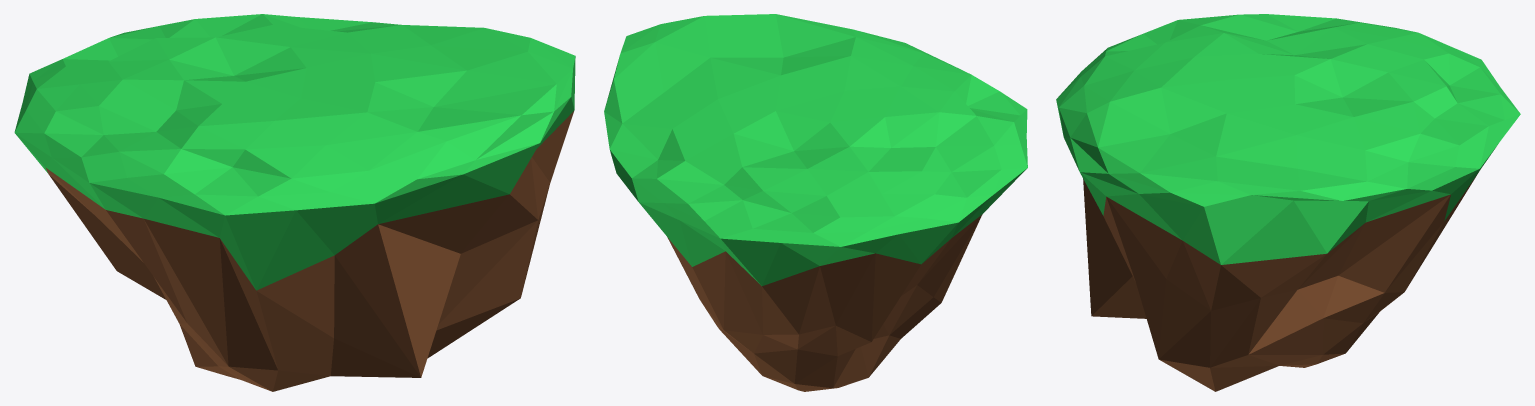
The model's file is IslandGreenAndBrown.fbx.
3 views of the same model, side by side, from view 1: azimuth 30°, elevation 25°; view 2: azimuth 150°, elevation 25°; view 3: azimuth 270°, elevation 25° (orthographic). The views are drawn at different scales.
Parts seen in each view (by area): view 1: Island.004; view 2: Island.004; view 3: Island.004.
Part boxes in pixels (x1,y1,x2,y2): Island.004: (14,14,575,391); Island.004: (604,14,1027,391); Island.004: (1056,14,1520,391).
Size of the model in its own units: 1249 by 805 by 1162.
1 material, 1 textured.
